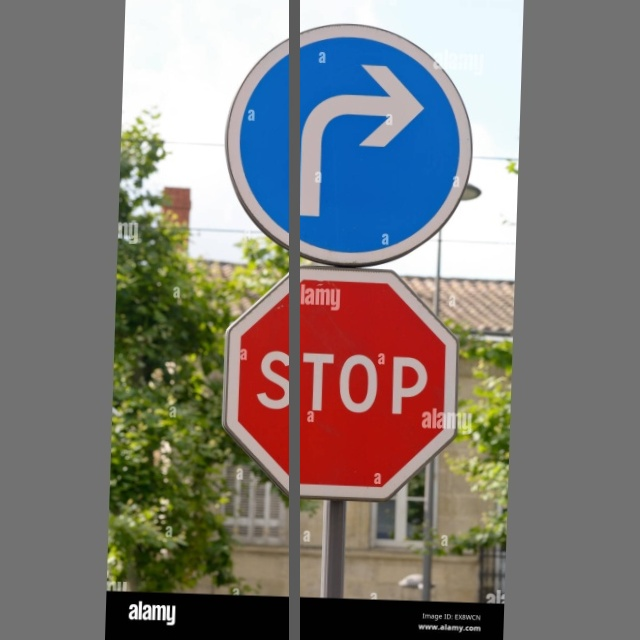Compulsory_Turn_Right_Ahead: (222, 24, 480, 265)
